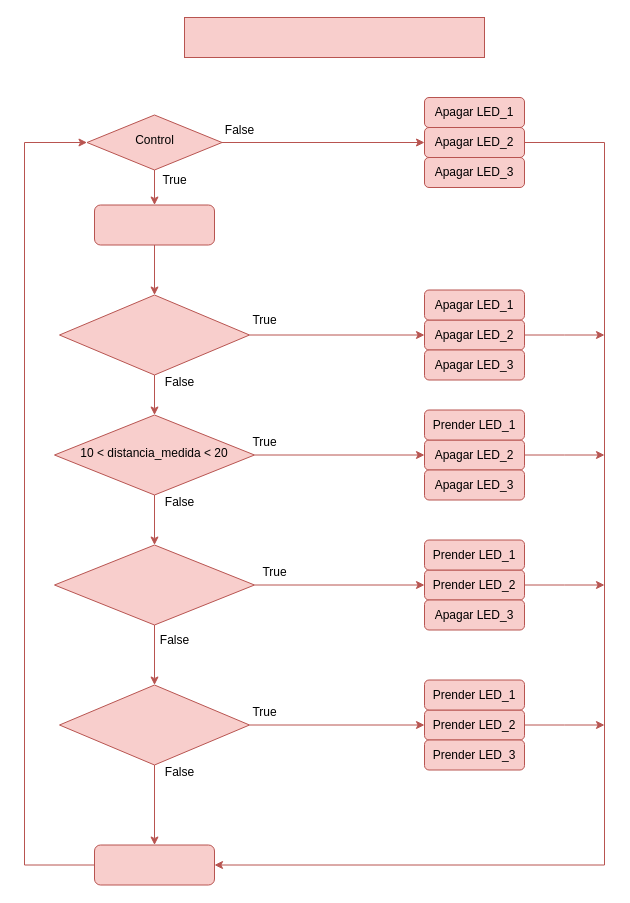
This 630x903 diagram has some shape labels left out. The shapes that lost their labels are listed below. From the top down, each one's box as (x1, y1, x2, y2) in pixels, then its label:
(184, 16, 484, 58): Diagrama de flujo: medir distancia
(94, 204, 214, 245): Medis distancia
(58, 294, 250, 375): distanciia_medida < 10
(54, 544, 254, 625): 20 < distancia_medida < 30
(58, 684, 250, 765): 30 < distanciia_medida
(94, 844, 214, 885): vTaskDelay
